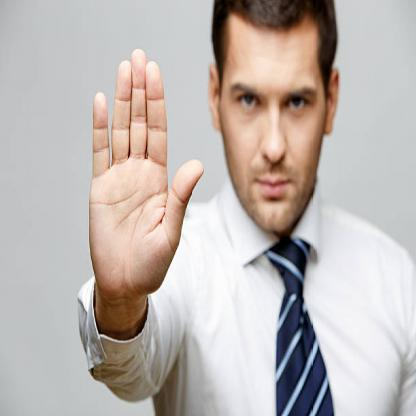stop: (89, 44, 204, 294)
